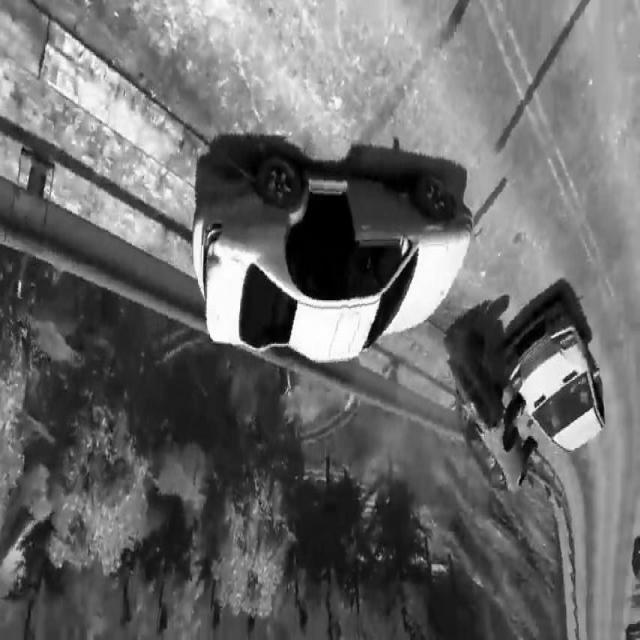severe: (442, 290, 609, 506)
